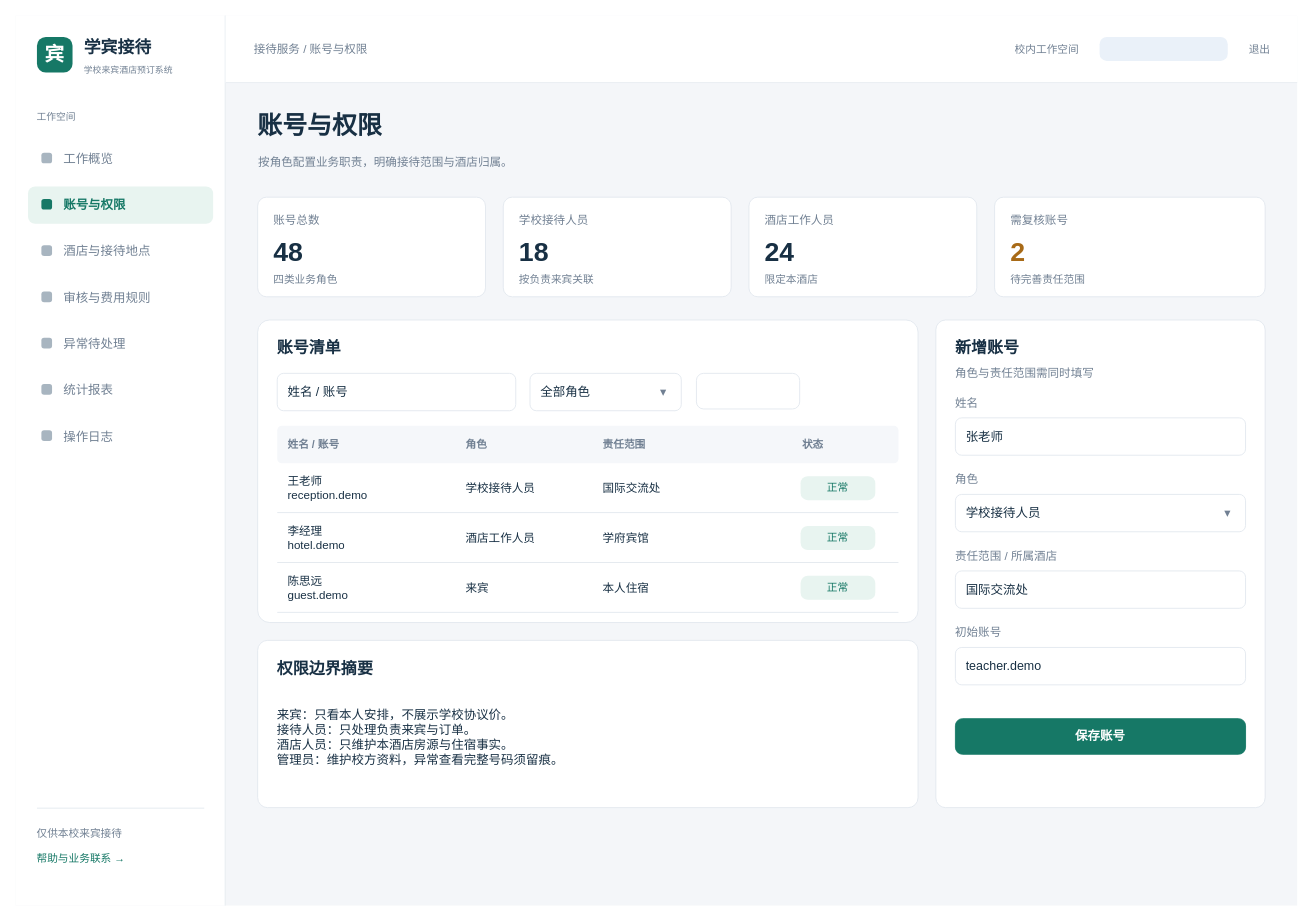
The diagram is 1312 pixels wide and 920 high, and some of its shapes have lost their labels. The centre of each missing label's shape, as x and y in pixels:
平台管理员: the point at 1163,48
查询: the point at 748,390
